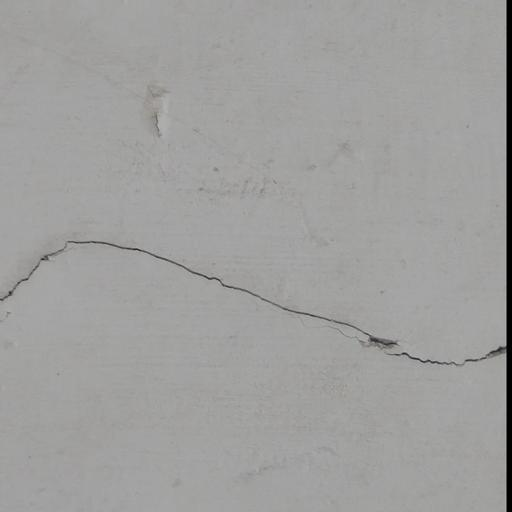major_crack: (0, 226, 512, 404)
